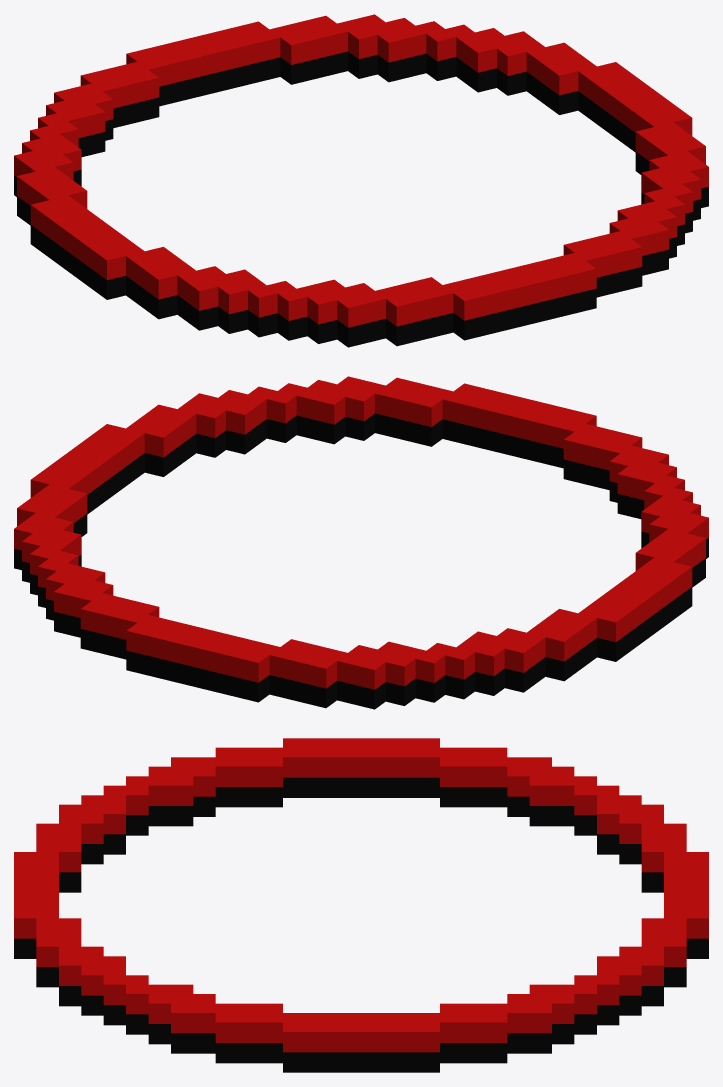
Rendered from battle_zone_ring_red.obj.
The picture shows the model from 3 angles, top to bottom: view 1: azimuth 30°, elevation 25°; view 2: azimuth 150°, elevation 25°; view 3: azimuth 270°, elevation 25°; orthographic projection. The views are drawn at different scales.
Visible parts, largest first — view 1: battle_zone_ring_red; view 2: battle_zone_ring_red; view 3: battle_zone_ring_red.
Boxes of the visible parts, x1,y1,x2,y2 form: battle_zone_ring_red: (14,14,708,347); battle_zone_ring_red: (14,376,708,709); battle_zone_ring_red: (14,738,708,1072).
Bounding box in the file's own units: 31 × 2 × 31.
Materials: 1 (1 with a texture image).
